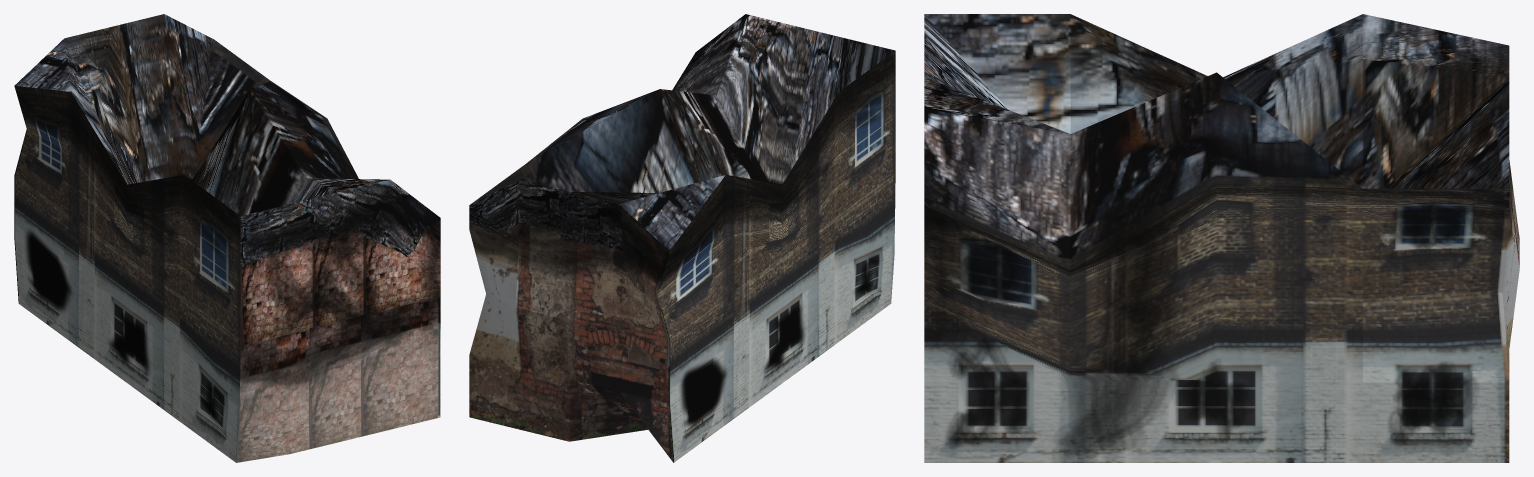
File: house_bad.fbx
3 views of the same model, side by side, from view 1: azimuth 30°, elevation 25°; view 2: azimuth 150°, elevation 25°; view 3: azimuth 270°, elevation 25° (orthographic). The views are drawn at different scales.
Visible parts, largest first — view 1: Куб; view 2: Куб; view 3: Куб.
Part boxes in pixels (x1,y1,x2,y2): Куб: (14, 14, 440, 462); Куб: (469, 14, 895, 462); Куб: (924, 14, 1519, 462).
Bounding box in the file's own units: 167 × 212 × 334.
Materials: 1 (1 with a texture image).
